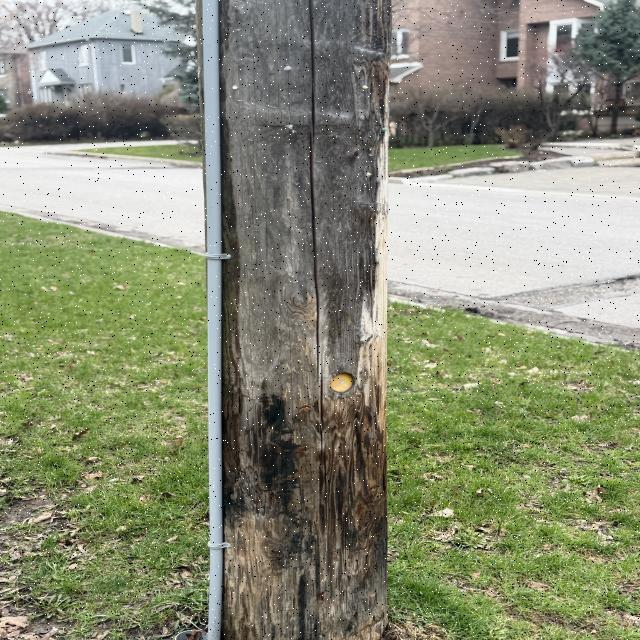Electrical Pole: (192, 3, 395, 639)
